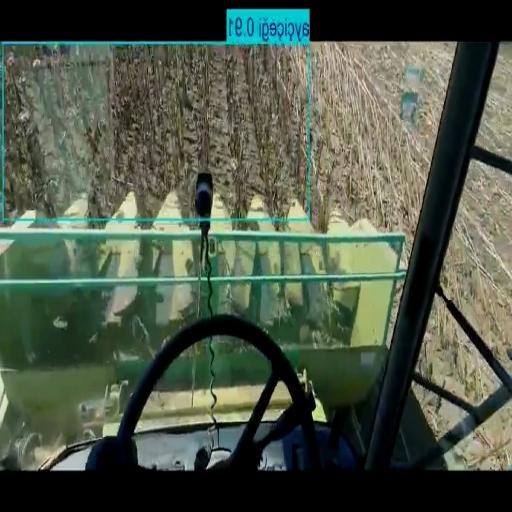ayc: (4, 46, 307, 216)
